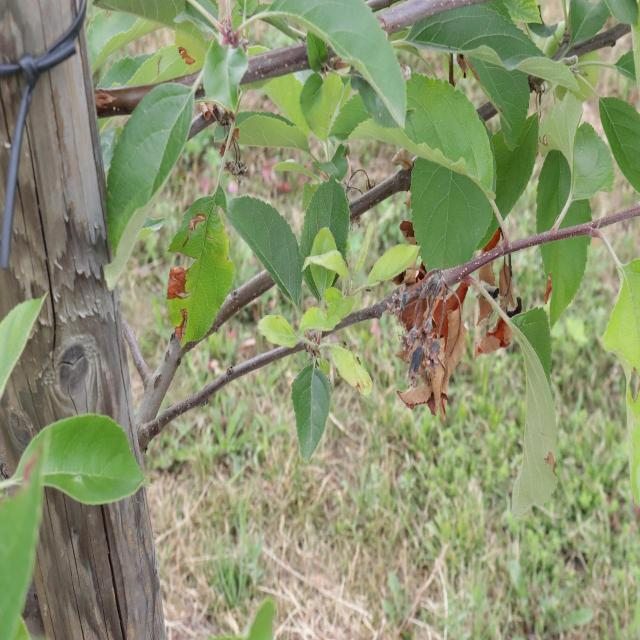-FireBlight-: (392, 269, 538, 402)
